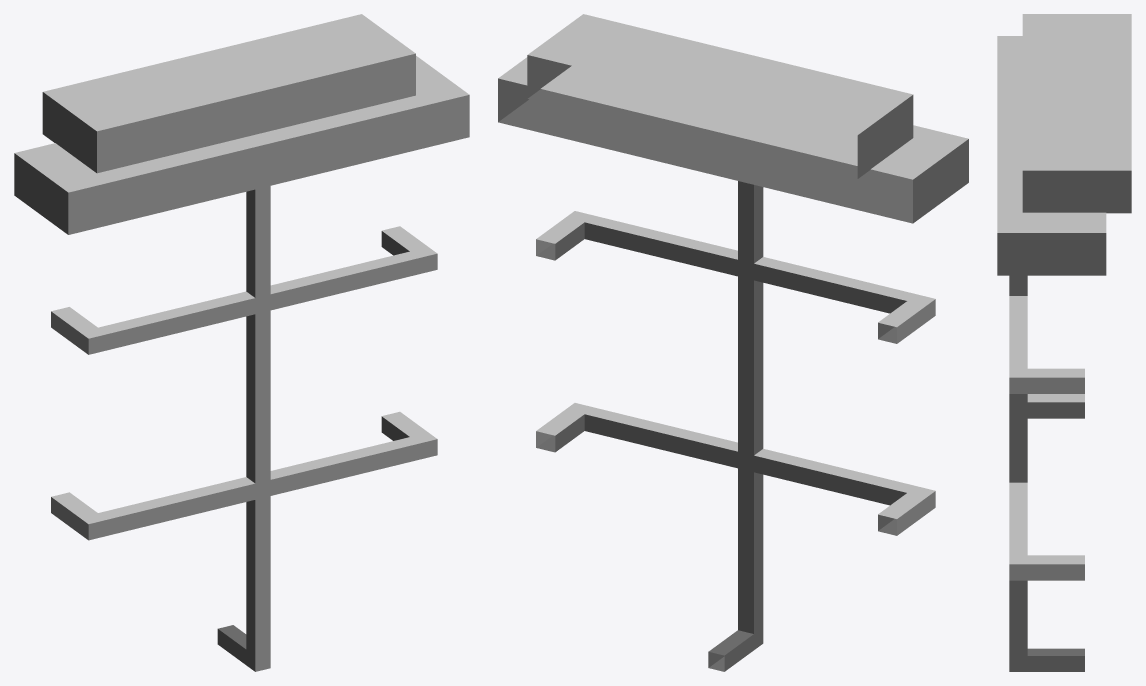
Rendered from police_station.fbx.
3 renders of one model, left to right at view 1: azimuth 30°, elevation 25°; view 2: azimuth 150°, elevation 25°; view 3: azimuth 270°, elevation 25°, orthographic. The views are drawn at different scales.
Parts seen in each view (by area): view 1: police_station; view 2: police_station; view 3: police_station.
Boxes of the visible parts, left/top/right/bottom form: police_station: left=14, top=14, right=469, bottom=671; police_station: left=498, top=14, right=968, bottom=671; police_station: left=997, top=14, right=1131, bottom=671.
Bounding box in the file's own units: 2.28 × 3.1 × 0.6552.
